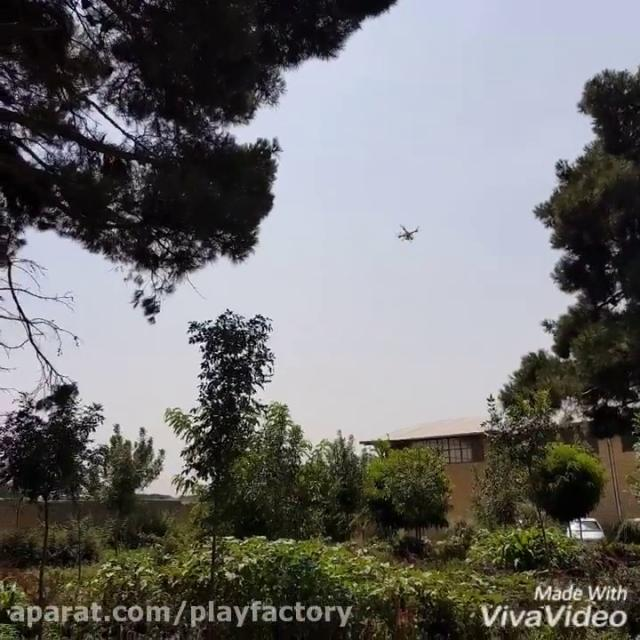drone: (391, 220, 426, 243)
